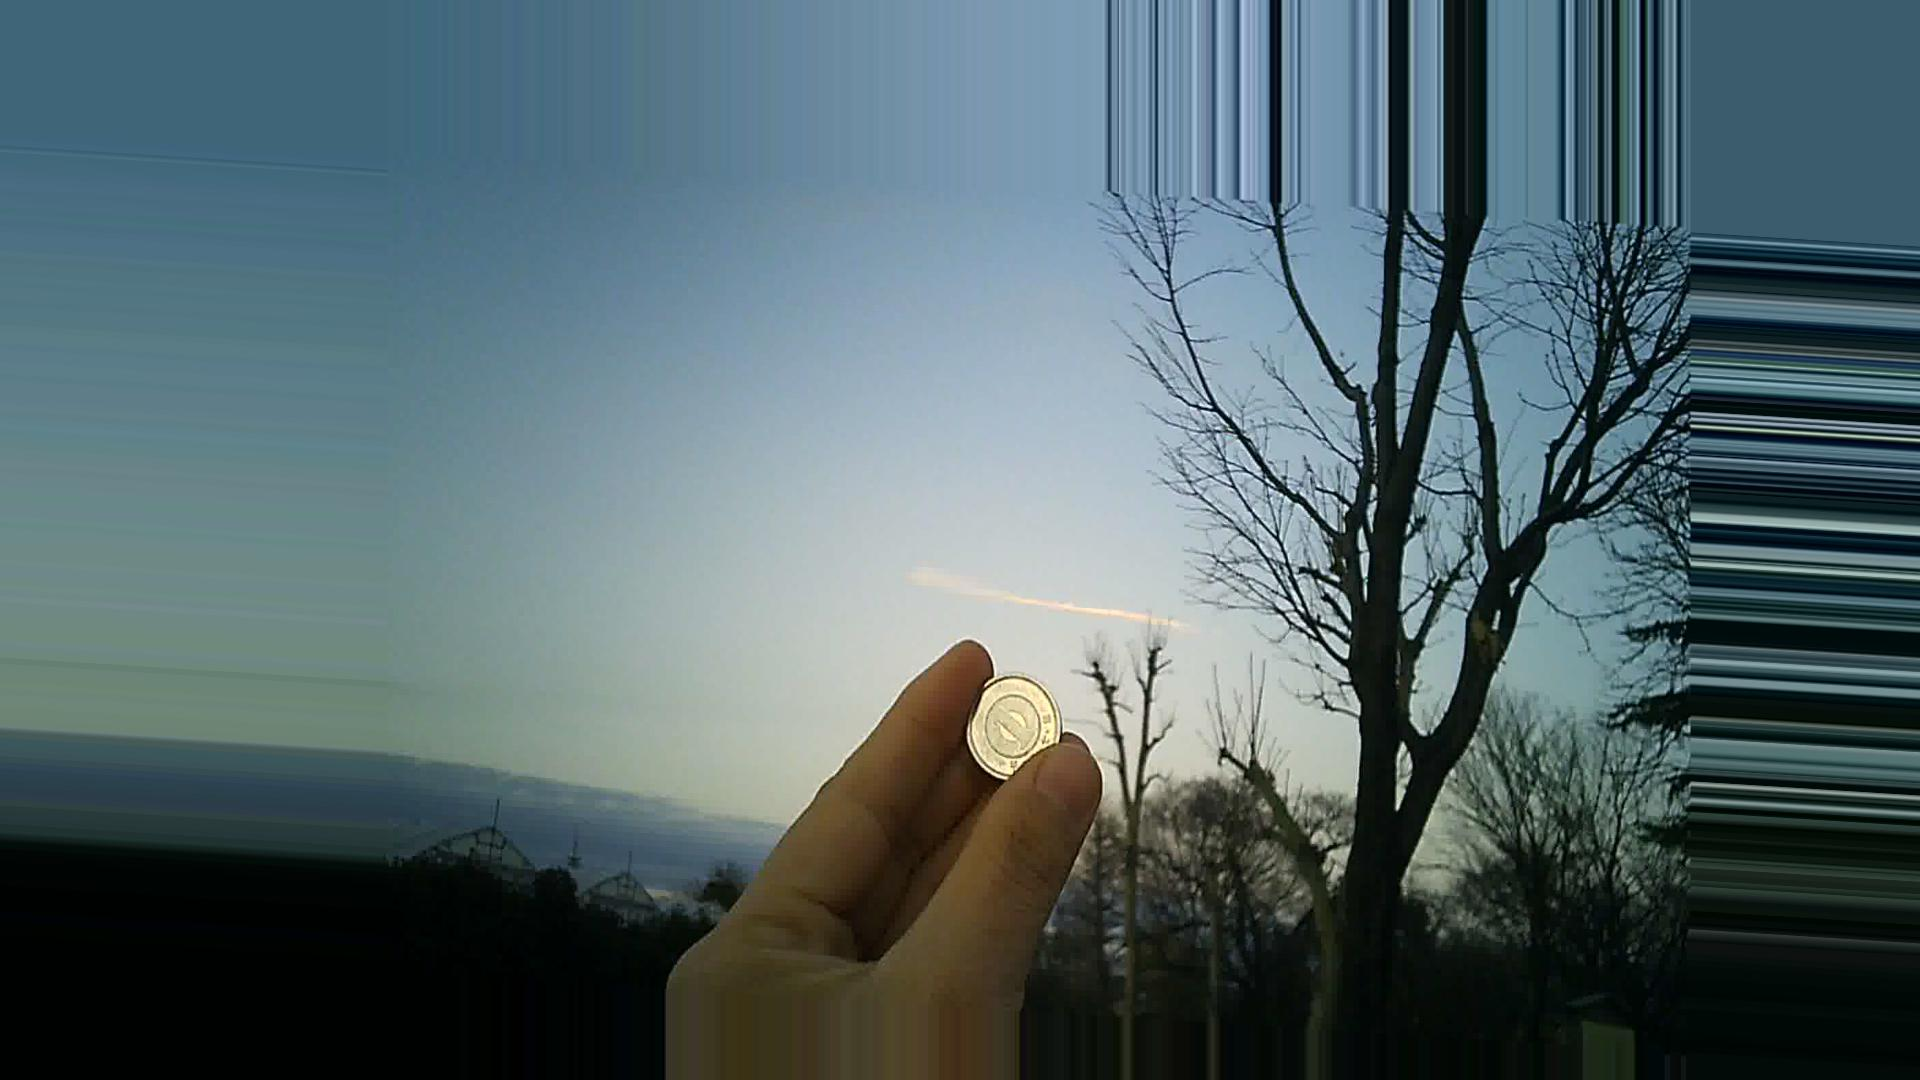1 Yen: (947, 666, 1075, 785)
